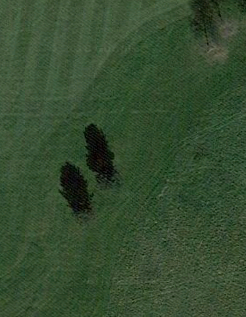tree: (89, 163, 139, 204), (65, 192, 107, 234), (190, 35, 230, 72)
